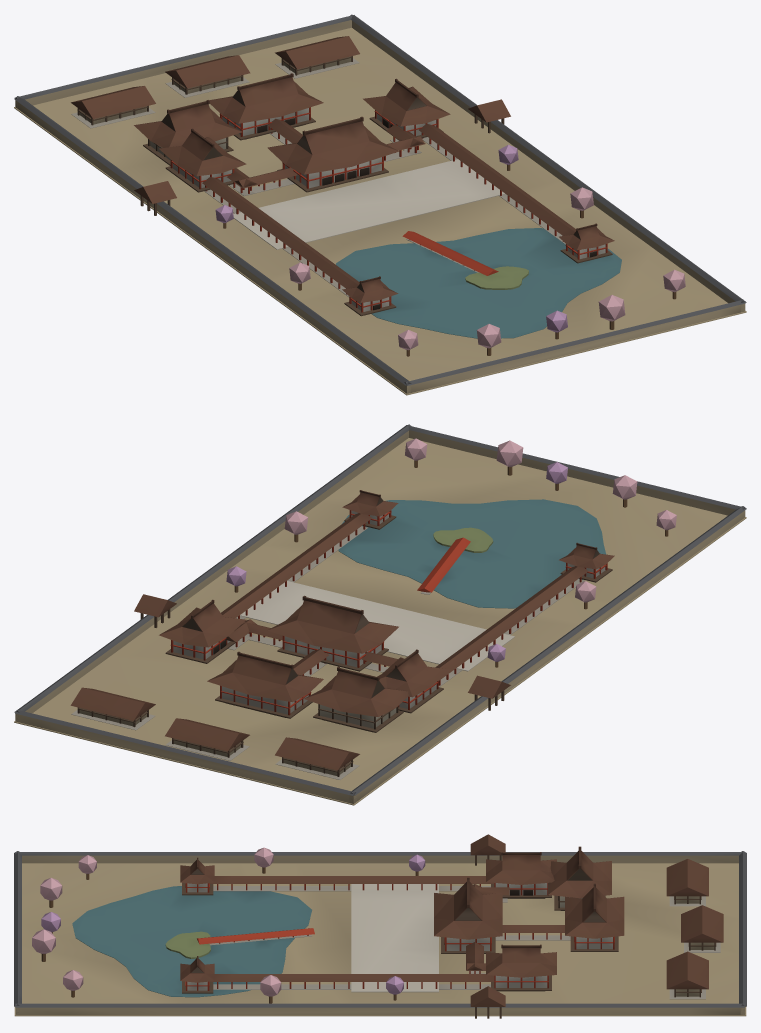
The model's file is hana-no-gosho.glb.
The picture shows the model from 3 angles, top to bottom: view 1: azimuth 30°, elevation 25°; view 2: azimuth 150°, elevation 25°; view 3: azimuth 270°, elevation 25°; orthographic projection. The views are drawn at different scales.
Visible parts, largest first — view 1: p0_grounds, p2_roofs, p1_halls; view 2: p0_grounds, p2_roofs, p1_halls; view 3: p0_grounds, p2_roofs, p1_halls.
Boxes of the visible parts, x1,y1,x2,y2 form: p0_grounds: [14, 14, 746, 395]; p2_roofs: [71, 36, 685, 356]; p1_halls: [71, 56, 612, 316]; p0_grounds: [14, 424, 746, 805]; p2_roofs: [70, 438, 676, 770]; p1_halls: [71, 510, 612, 779]; p0_grounds: [14, 851, 746, 1016]; p2_roofs: [32, 846, 723, 1003]; p1_halls: [182, 834, 720, 1018].
Bounding box in the file's own units: 116 × 16 × 220.
